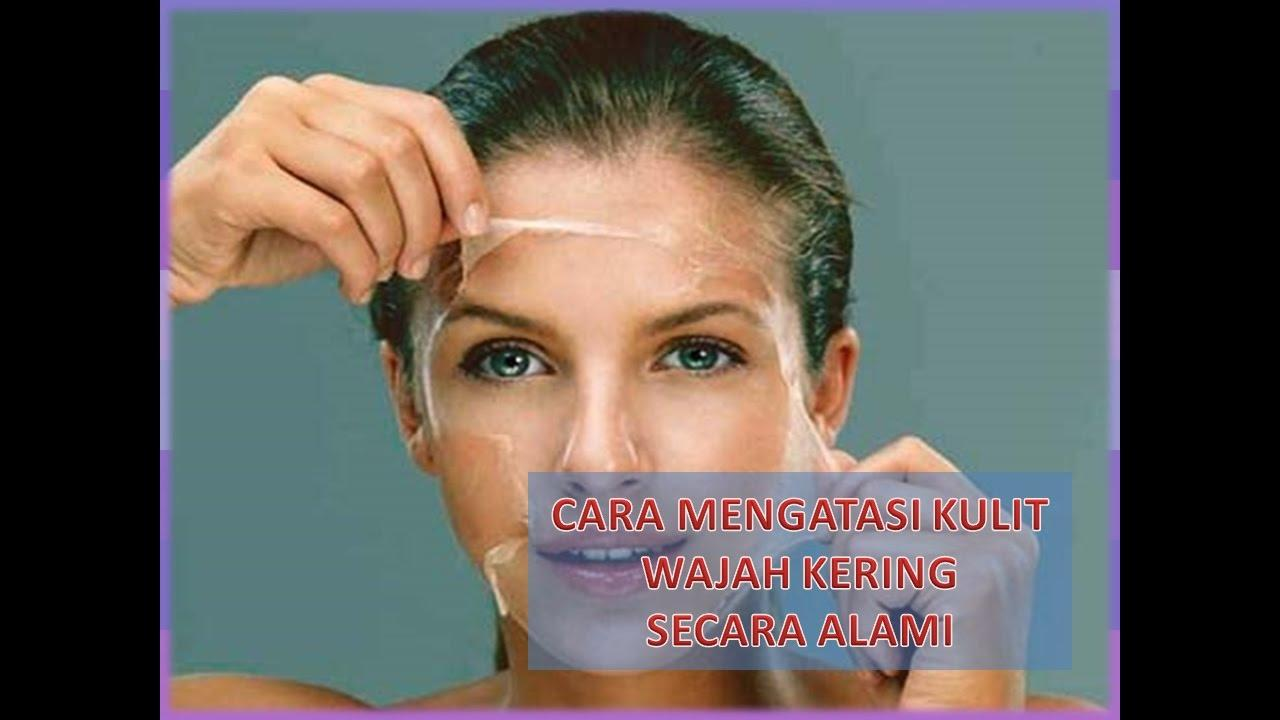Dry-Skin: (469, 125, 795, 317), (425, 425, 532, 637)
